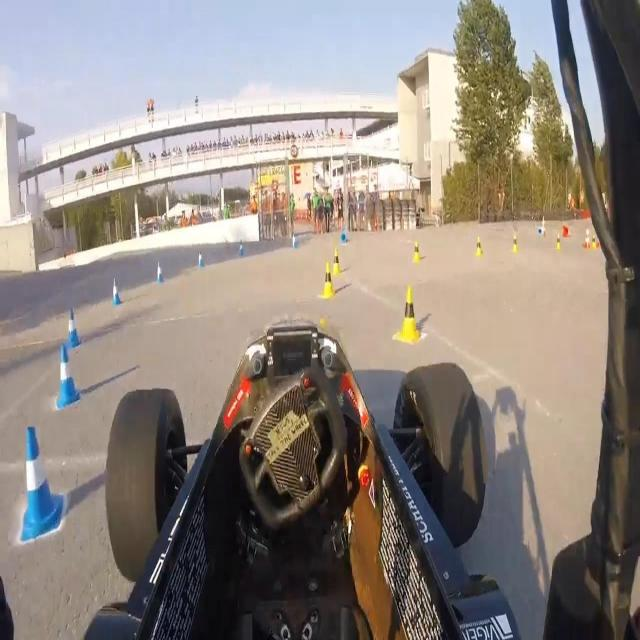blue_cone: (19, 426, 67, 548), (50, 346, 79, 412), (63, 306, 81, 348), (112, 278, 123, 308), (156, 260, 164, 284), (198, 252, 205, 270), (238, 242, 244, 260), (339, 231, 348, 243), (292, 233, 298, 250), (538, 226, 544, 235)
large_orange_cone: (562, 223, 574, 239), (583, 228, 591, 249)
yellow_cone: (399, 286, 420, 346), (320, 262, 335, 298), (332, 248, 342, 277), (474, 236, 484, 260), (412, 240, 421, 265), (510, 234, 518, 253), (591, 234, 596, 249), (556, 234, 560, 250)
